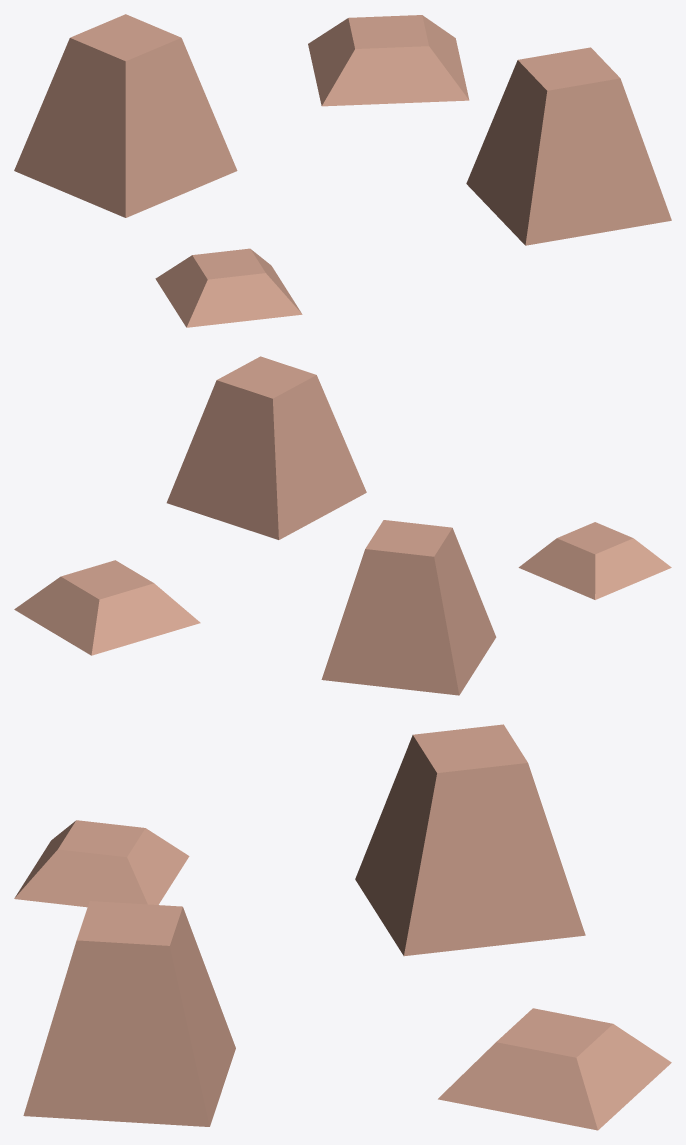
Rendered from rocks_smallB.glb.
3 views of the same model, one above another, from view 1: azimuth 30°, elevation 25°; view 2: azimuth 150°, elevation 25°; view 3: azimuth 270°, elevation 25° (orthographic). The views are drawn at different scales.
Visible parts, largest first — view 1: rocks_smallB; view 2: rocks_smallB; view 3: rocks_smallB.
Boxes of the visible parts, box(x1,y1,x2,y2) form: rocks_smallB: box(14, 14, 671, 327); rocks_smallB: box(14, 356, 671, 695); rocks_smallB: box(14, 724, 671, 1130).
Bounding box in the file's own units: 0.7288 × 0.186 × 0.6987.
